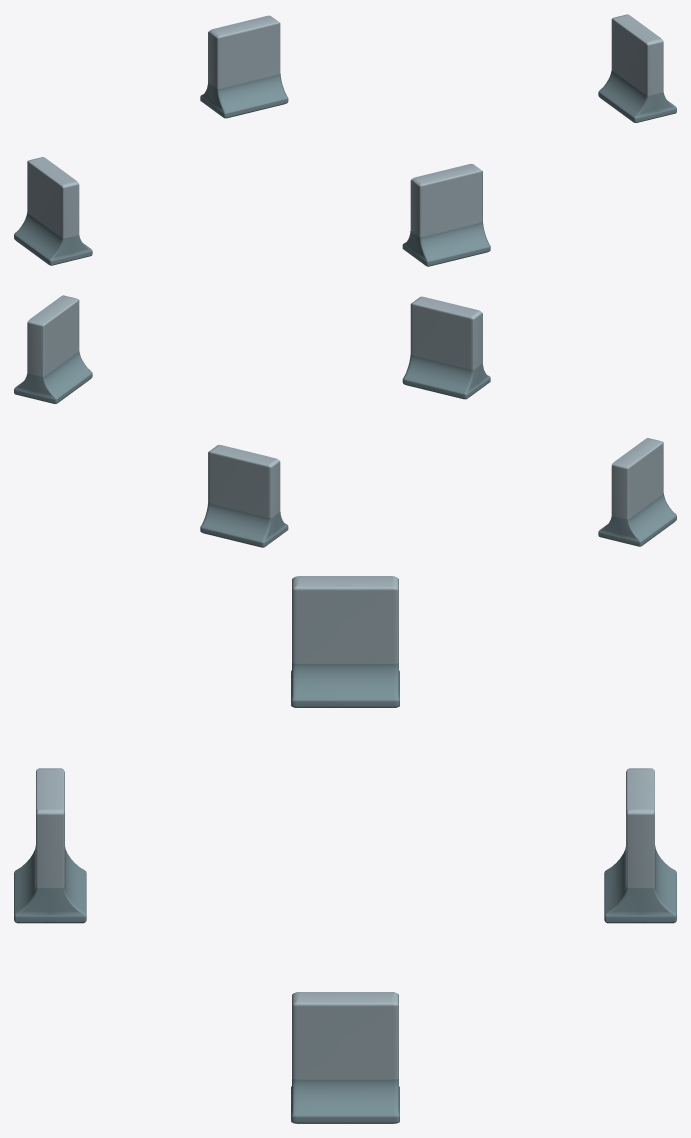
File: Props.fbx
3 renders of one model, top to bottom at view 1: azimuth 30°, elevation 25°; view 2: azimuth 150°, elevation 25°; view 3: azimuth 270°, elevation 25°, orthographic. The views are drawn at different scales.
Parts seen in each view (by area): view 1: 曲面单元 (×4); view 2: 曲面单元 (×4); view 3: 曲面单元 (×4).
Boxes of the visible parts, x1,y1,x2,y2 form: 曲面单元 (×4): [14, 14, 676, 266]; 曲面单元 (×4): [14, 295, 676, 547]; 曲面单元 (×4): [14, 576, 676, 1123].
Bounding box in the file's own units: 42.96 × 5.02 × 26.96.
